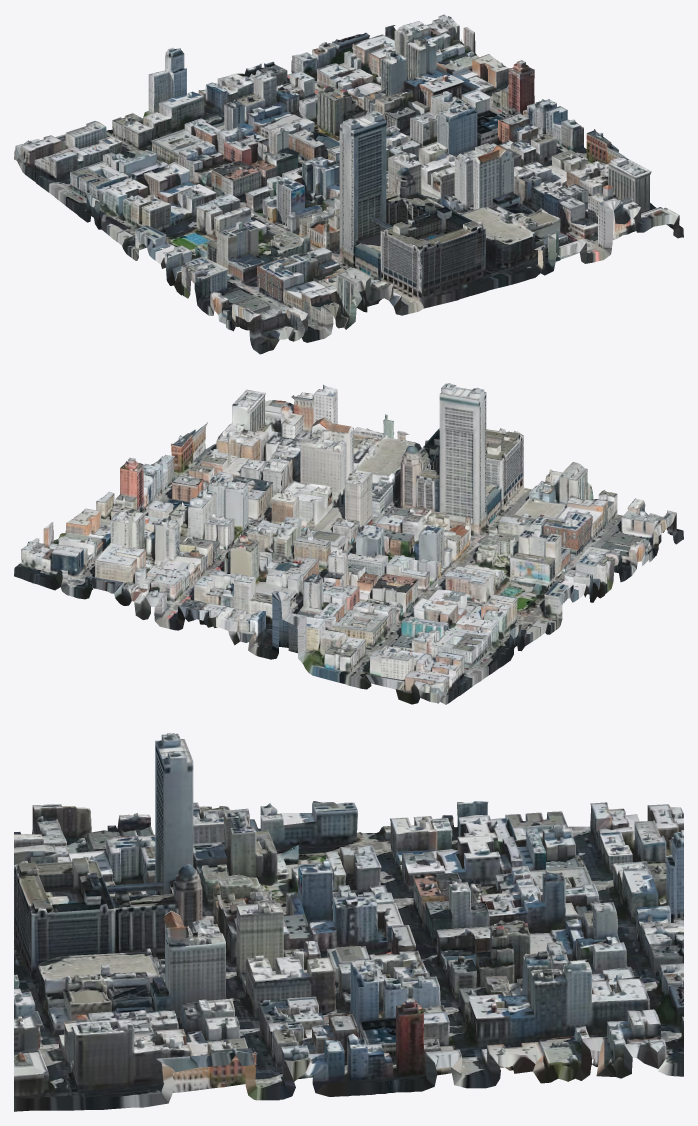
The model's file is z16-10483-25328-h0-yup-uvflip-v3-world.glb.
The picture shows the model from 3 angles, top to bottom: view 1: azimuth 30°, elevation 25°; view 2: azimuth 150°, elevation 25°; view 3: azimuth 270°, elevation 25°; orthographic projection. The views are drawn at different scales.
Size of the model in its own units: 484 by 170 by 485.
1 material, 1 textured.
